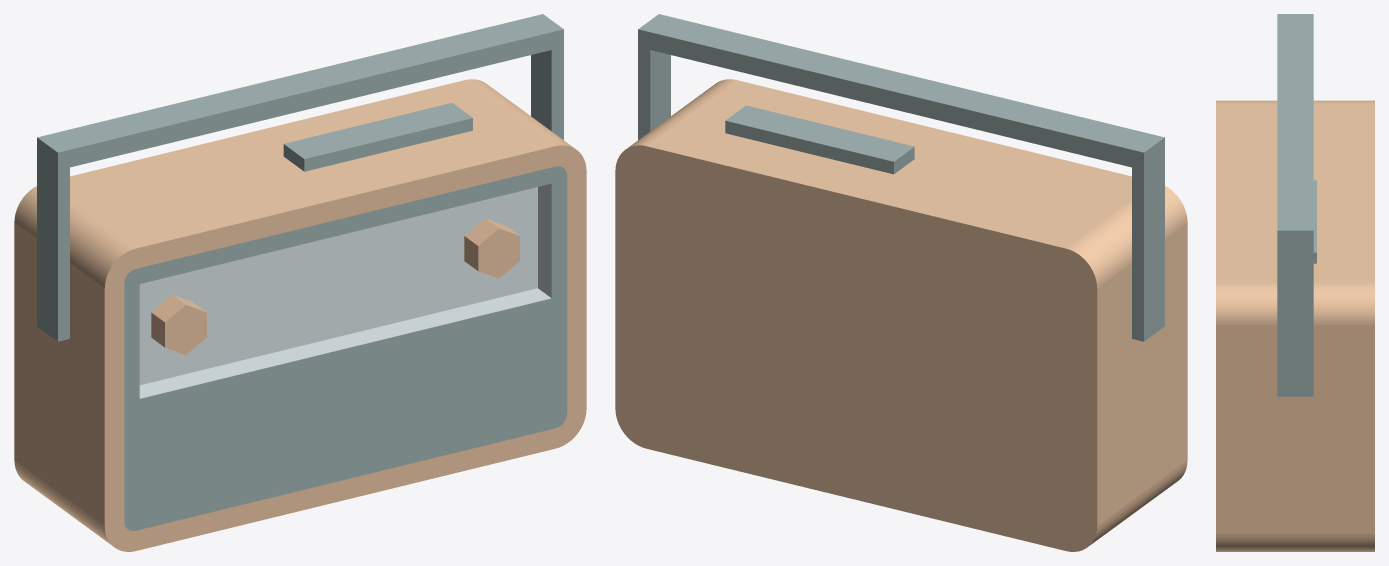
Rendered from radio.glb.
The picture shows the model from 3 angles, left to right: view 1: azimuth 30°, elevation 25°; view 2: azimuth 150°, elevation 25°; view 3: azimuth 270°, elevation 25°; orthographic projection. The views are drawn at different scales.
Parts seen in each view (by area): view 1: radio(Clone); view 2: radio(Clone); view 3: radio(Clone).
Boxes of the visible parts, bbox=[...] form: radio(Clone): bbox=[14, 14, 586, 551]; radio(Clone): bbox=[615, 14, 1187, 551]; radio(Clone): bbox=[1216, 14, 1374, 551].
Bounding box in the file's own units: 0.315 × 0.2282 × 0.0975.
